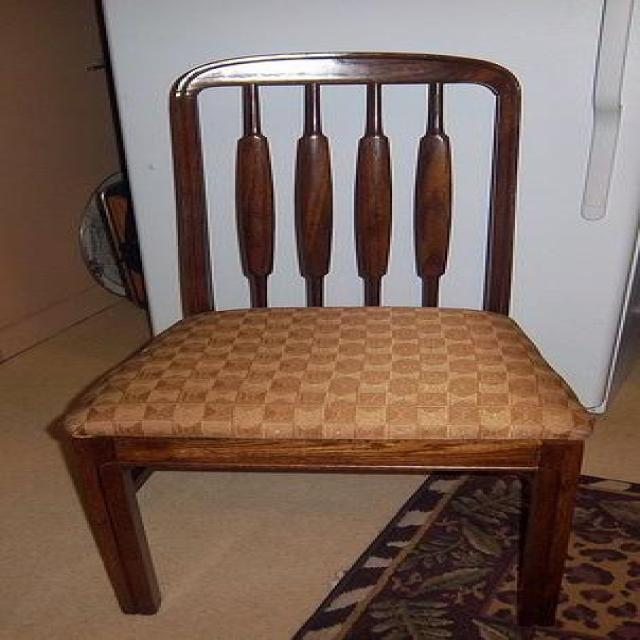chair: (49, 50, 596, 626)
